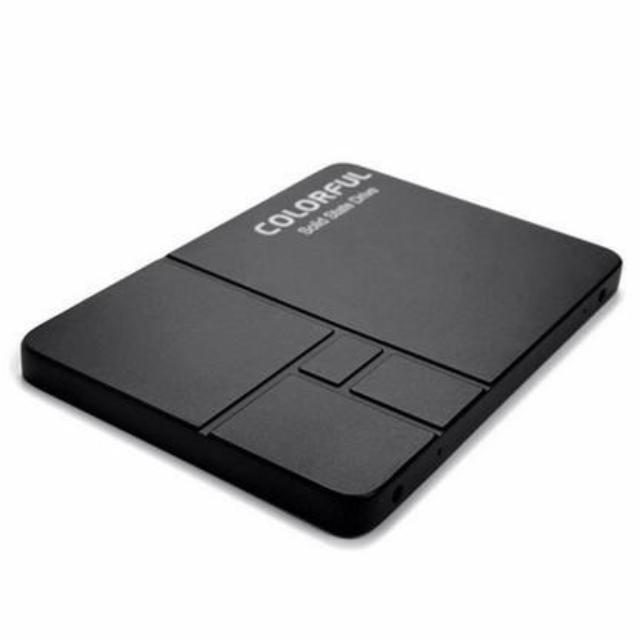DISK: (17, 149, 628, 554)
